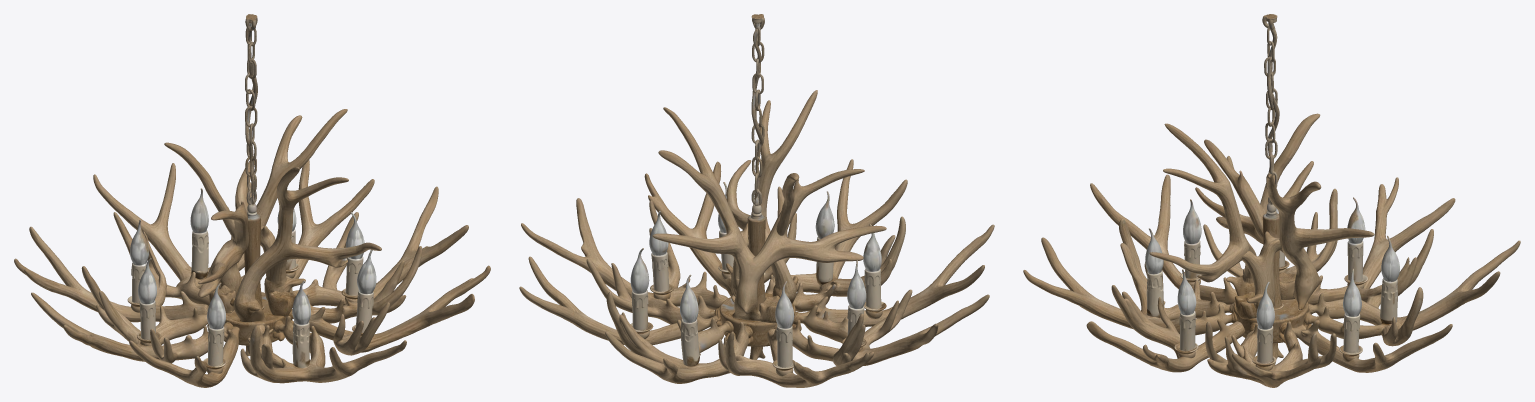
The model's file is Meshy_AI_Antler_Glow_1005062655_texture.glb.
3 renders of one model, left to right at view 1: azimuth 30°, elevation 25°; view 2: azimuth 150°, elevation 25°; view 3: azimuth 270°, elevation 25°, orthographic.
Bounding box in the file's own units: 1.85 × 1.47 × 1.9.
1 material, 1 textured.
